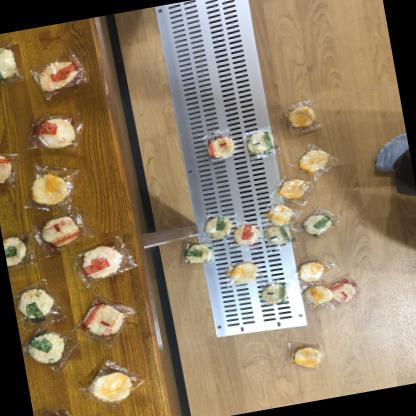green_setoshio: (19, 324, 76, 373), (11, 280, 64, 330), (237, 122, 284, 166), (293, 204, 341, 244), (196, 209, 238, 244), (252, 276, 294, 310), (178, 235, 219, 269), (2, 228, 34, 271), (0, 39, 26, 90), (257, 223, 295, 255)
red_setoshio: (18, 104, 86, 162), (28, 204, 94, 259), (28, 50, 90, 104), (74, 295, 136, 347), (70, 236, 132, 287), (198, 126, 240, 166), (326, 276, 360, 308), (229, 218, 264, 247), (0, 145, 21, 189), (32, 401, 85, 416)
yellow_setoshio: (78, 356, 146, 413), (20, 159, 80, 213), (278, 334, 330, 376), (290, 139, 339, 179), (271, 166, 318, 205), (278, 96, 322, 136), (292, 250, 336, 286), (219, 256, 264, 288), (300, 279, 333, 311), (262, 199, 296, 228)
